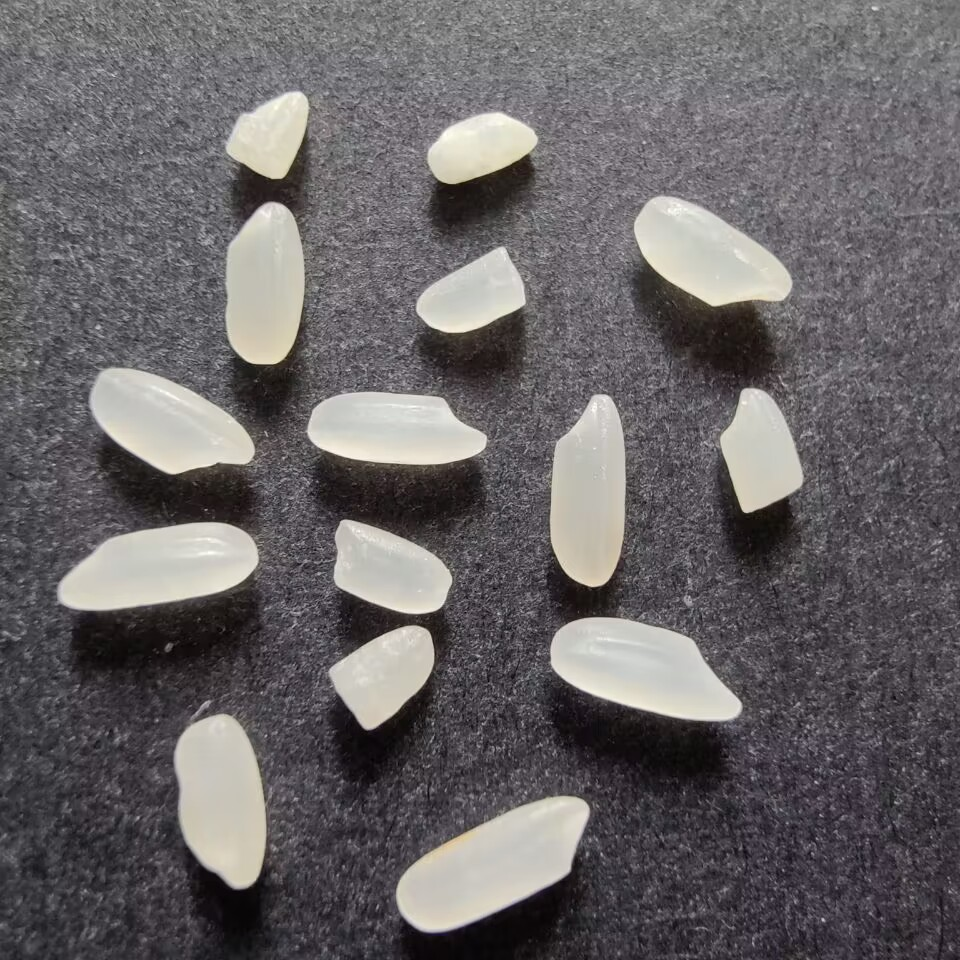broken: (325, 516, 453, 619), (323, 623, 440, 734), (714, 383, 805, 517), (410, 243, 533, 337), (423, 106, 542, 186), (223, 87, 312, 186)
rice: (395, 790, 593, 936), (544, 611, 745, 726), (52, 516, 260, 614), (631, 192, 796, 315), (88, 362, 258, 479), (172, 711, 267, 895), (543, 389, 628, 587), (217, 197, 309, 368), (306, 388, 493, 467)
